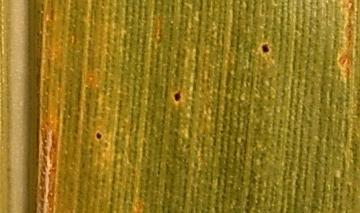tarspot: (260, 42, 271, 55), (173, 90, 182, 102), (94, 131, 102, 140)
